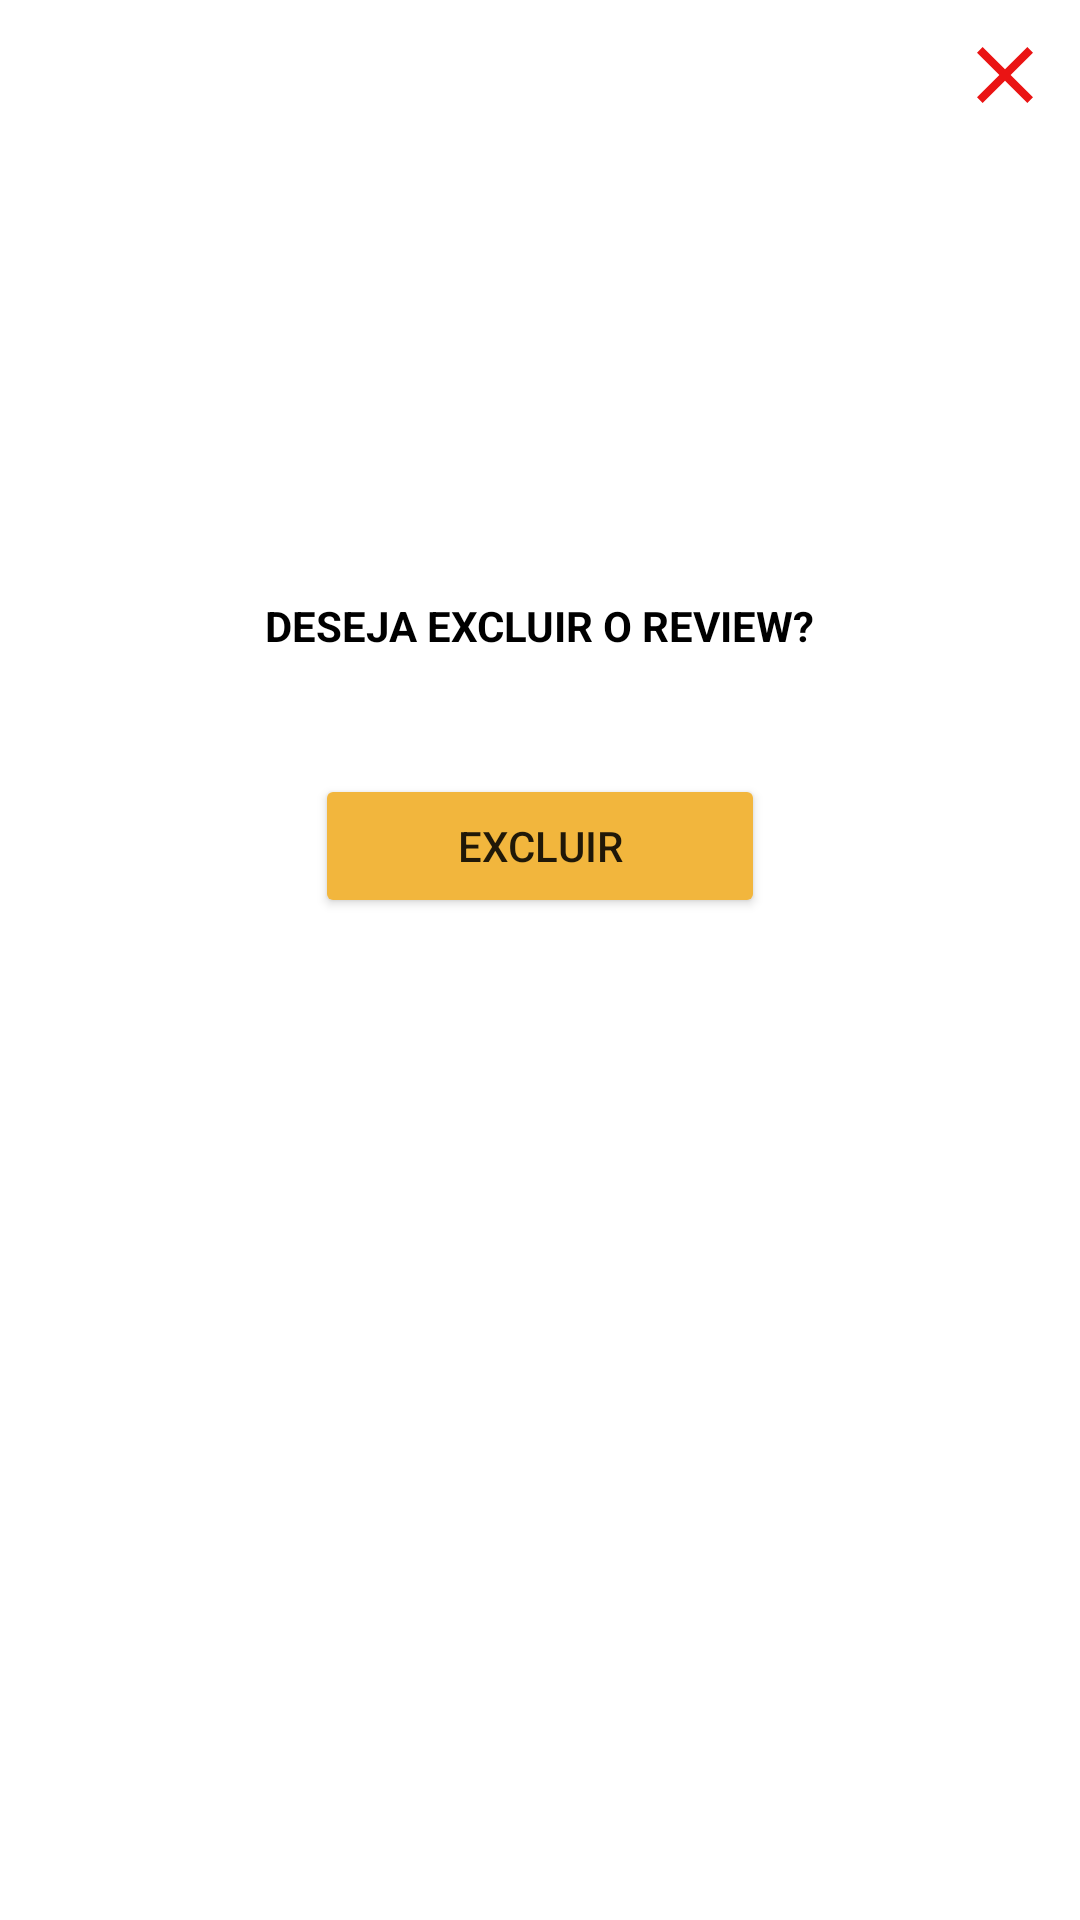

Icons on this 1080 × 1920 Android screen, each with its box as (left=x1, top=y1, right=x2, bottom=y2):
close: (left=977, top=47, right=1033, bottom=103)
